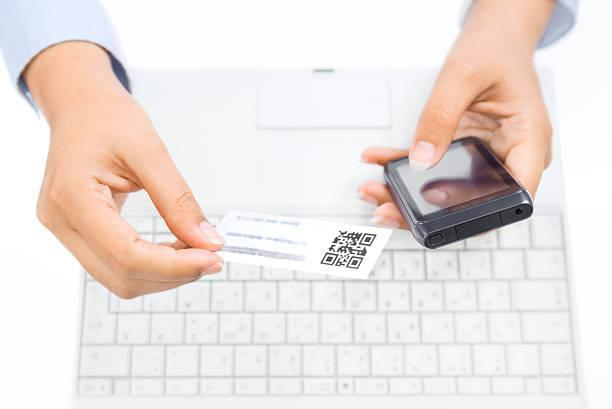Finder pattern: (357, 232, 379, 249), (345, 255, 366, 270)
